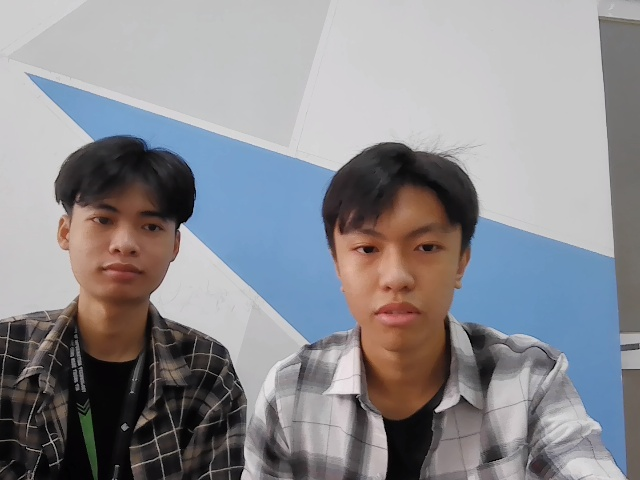human: (324, 142, 478, 352), (56, 136, 196, 304)
